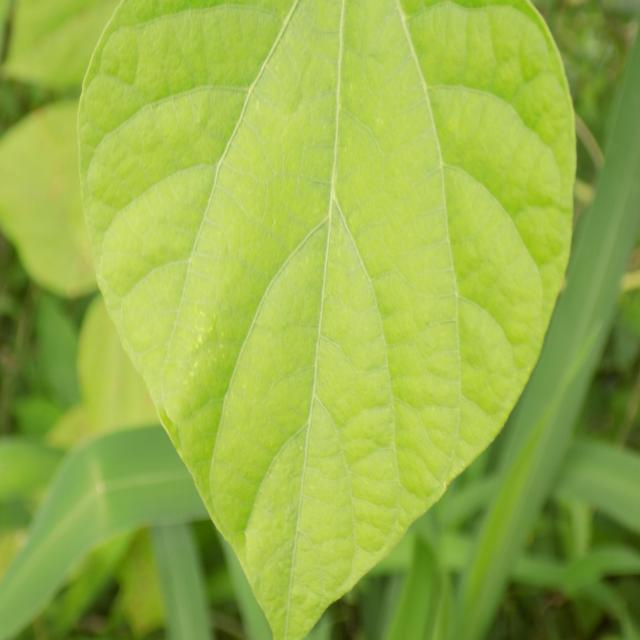Dolicos bean_healthy: (74, 0, 576, 640)
